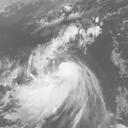cyclone: (17, 59, 86, 123)
